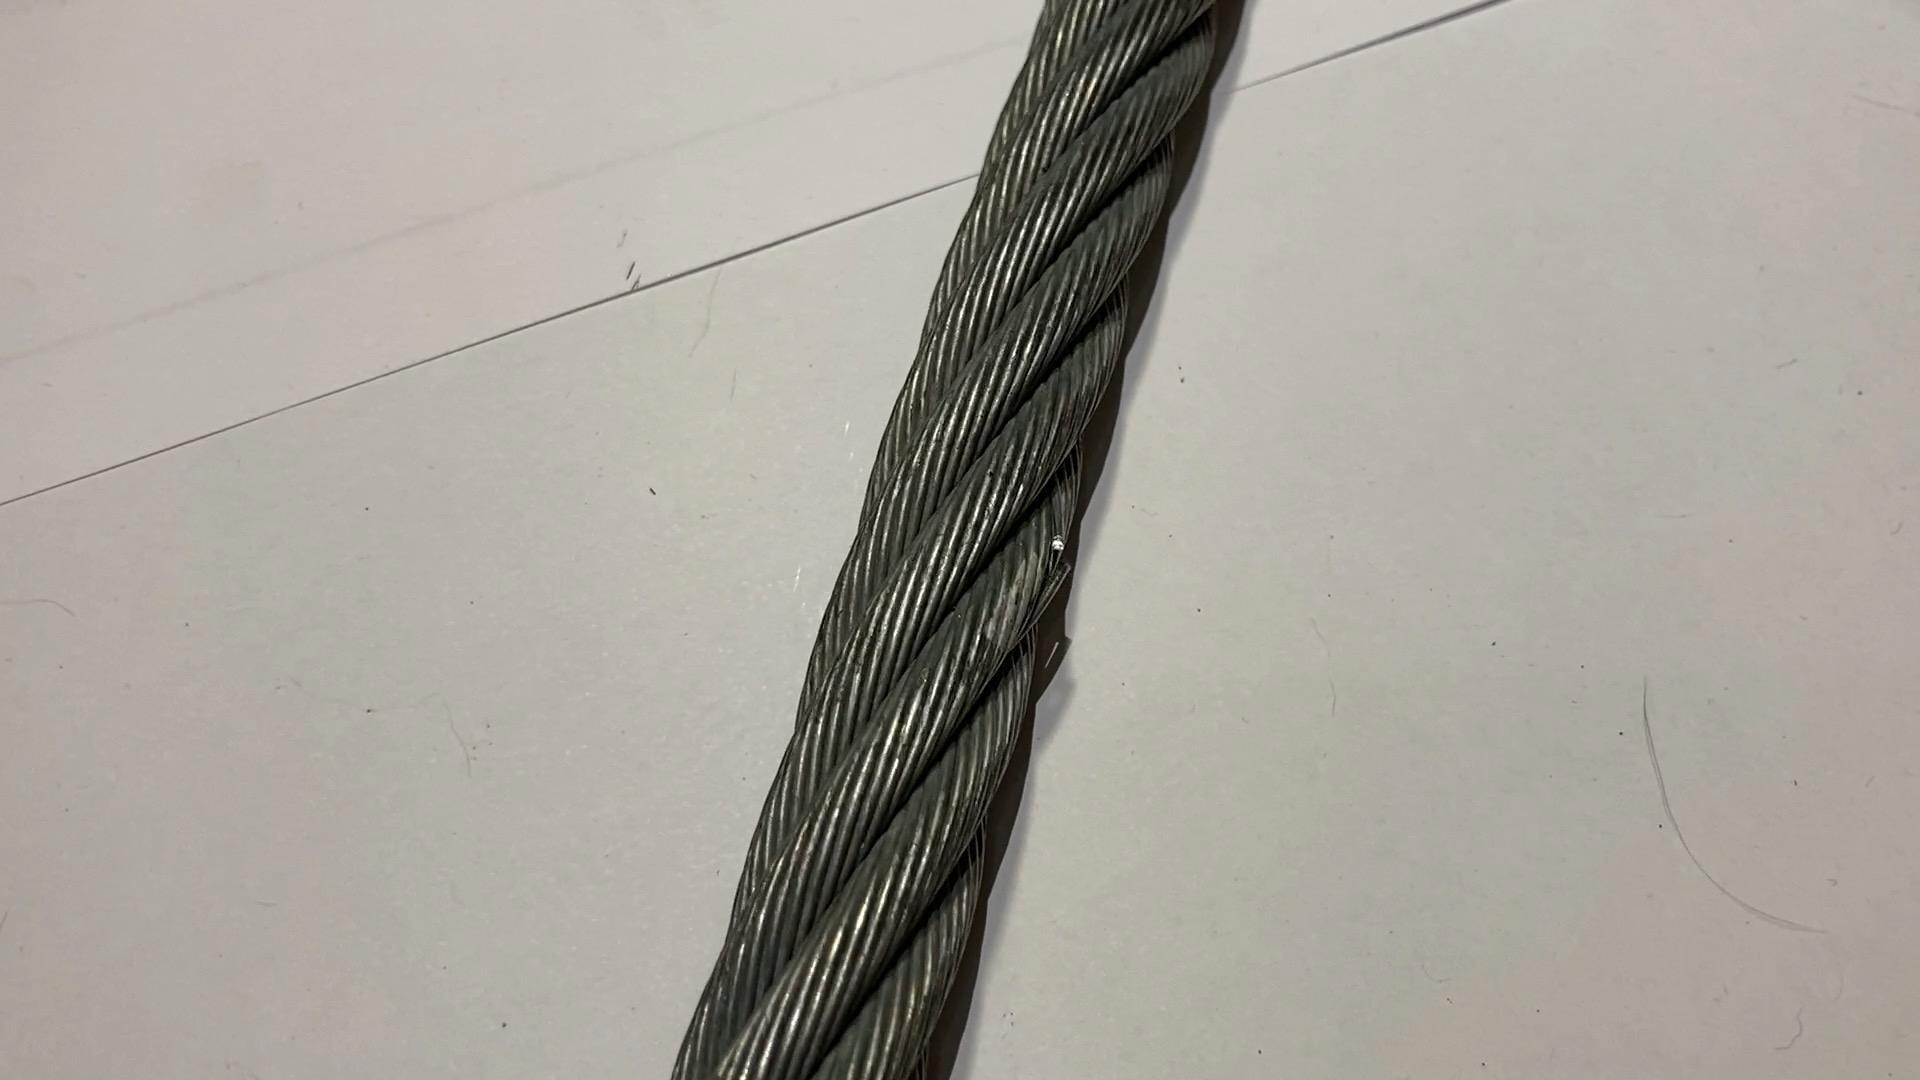break: (1043, 530, 1084, 584)
